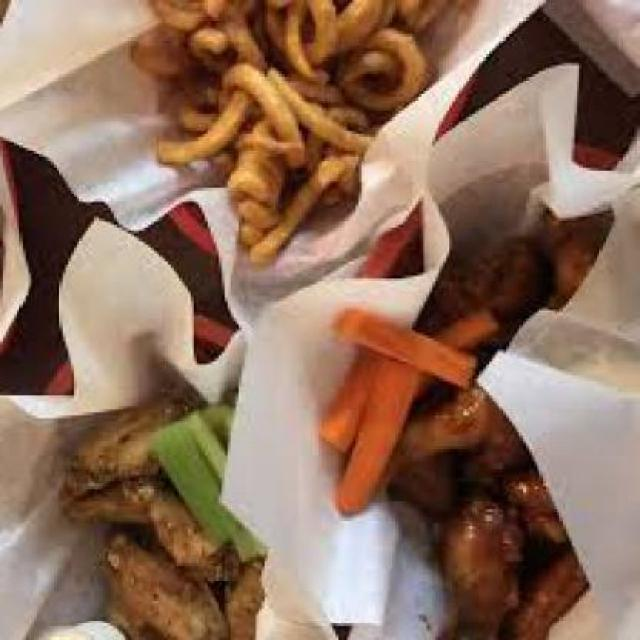chicken wings: (48, 179, 626, 638)
